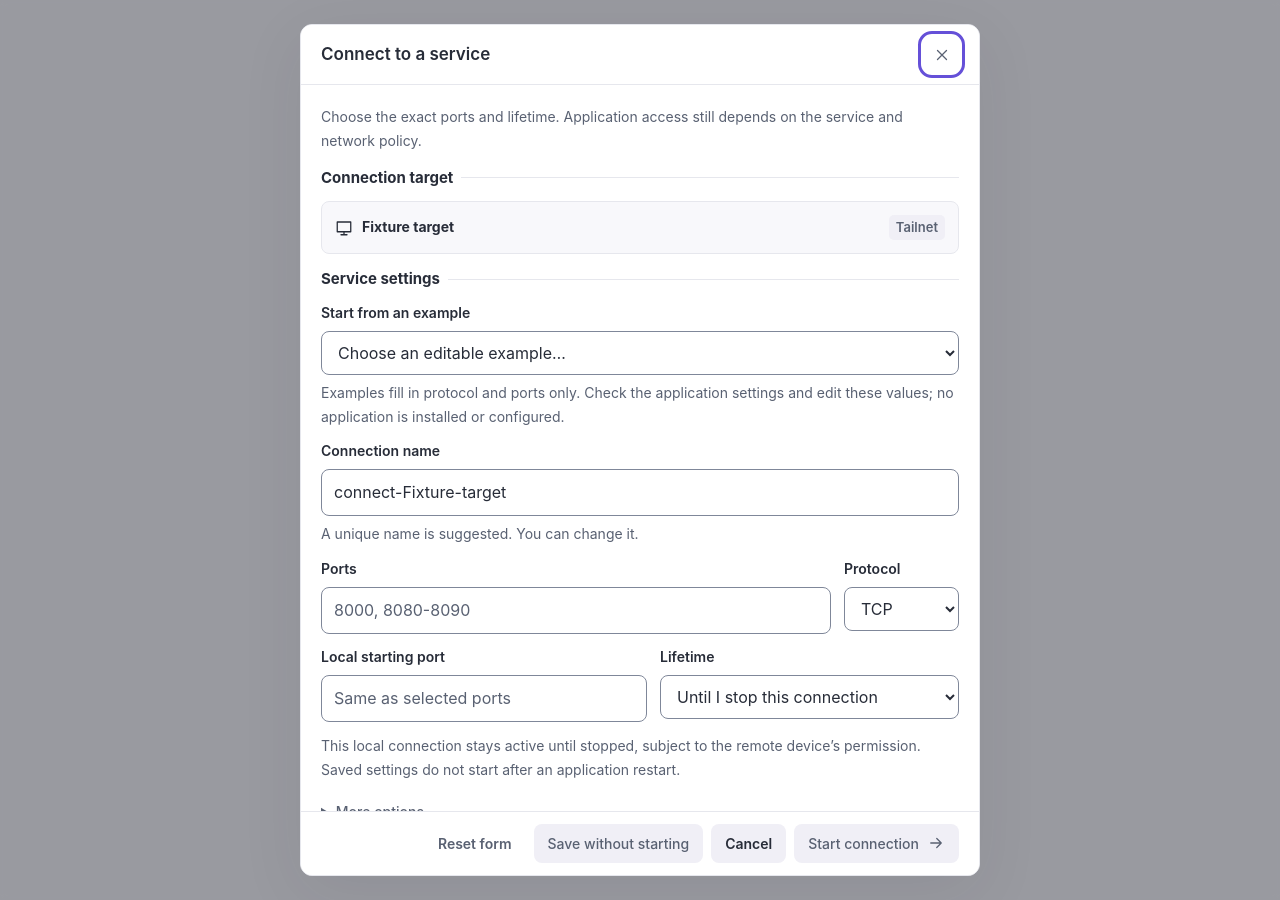
Test: service setup mirrors › uses the remaining aggregate capacity above the old threshold
This screenshot has width=1280, height=900.
In the field labelled "Ports": (576,610) x1=321 y1=587 x2=831 y2=634, type "8000-8099"
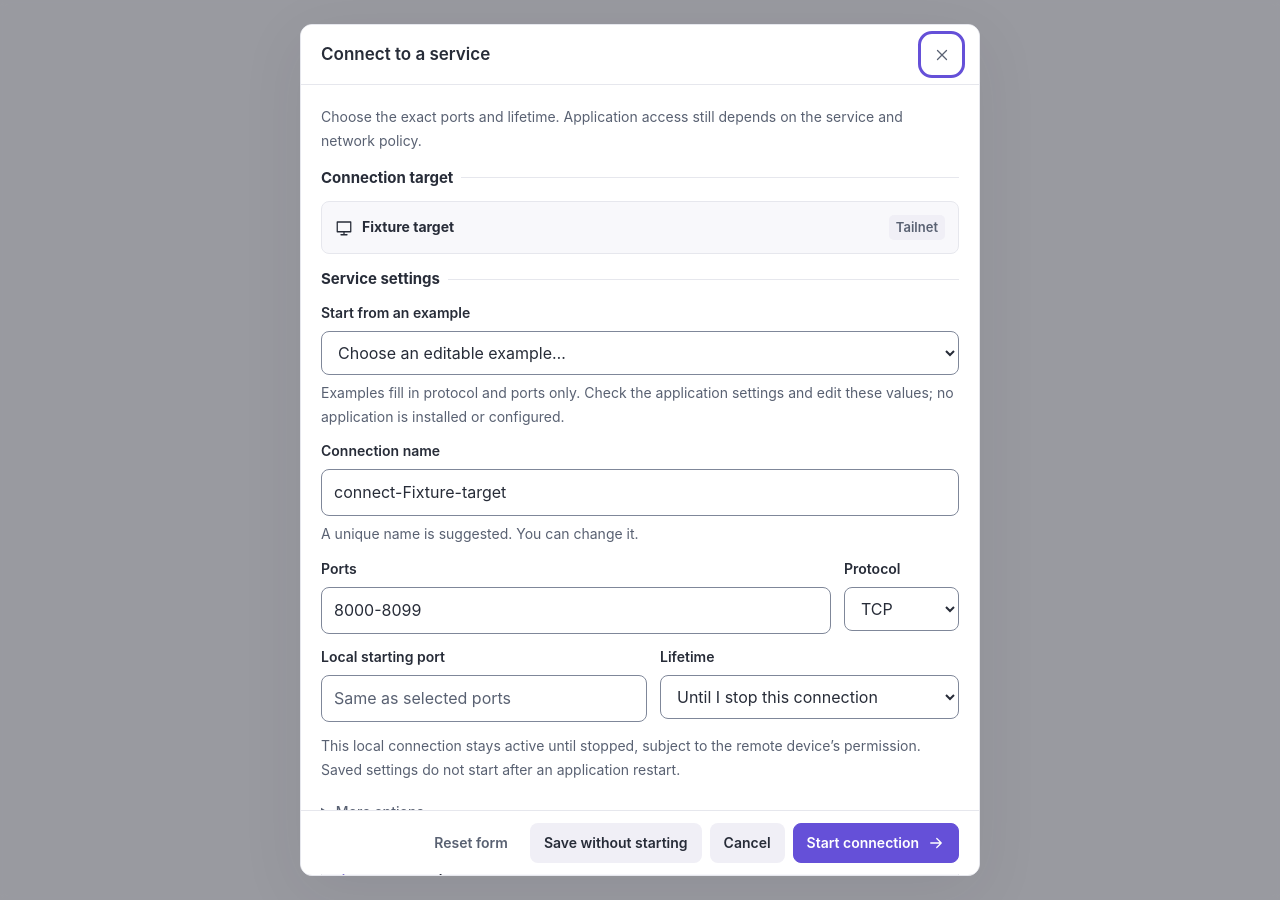
Now the button "Start connection" is enabled, box x1=793 y1=823 x2=959 y2=863
Replace the text in the field labelled "Ports" with "8000-8100": (576,610) x1=321 y1=587 x2=831 y2=634
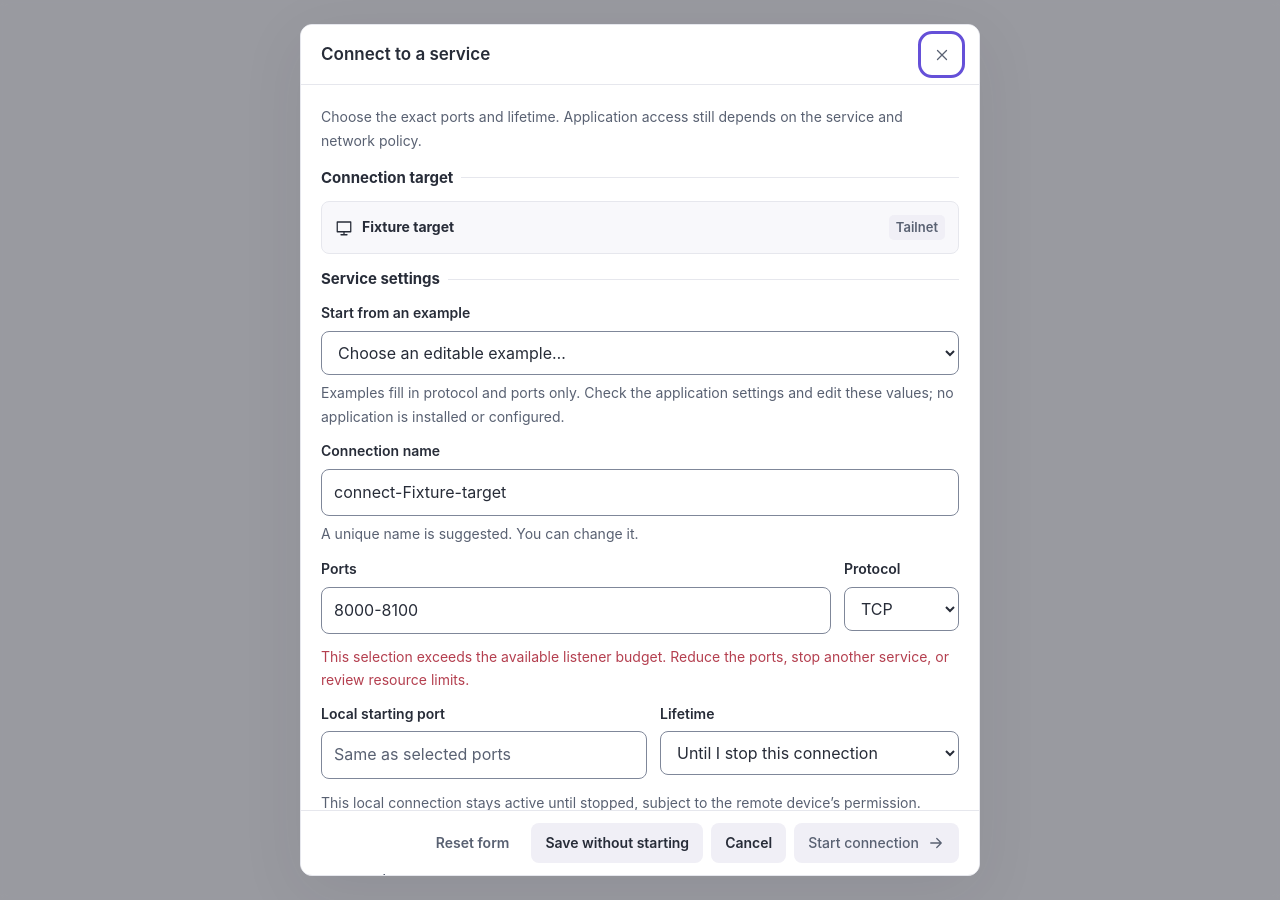
Now the button "Start connection" is disabled, box x1=794 y1=823 x2=959 y2=863
